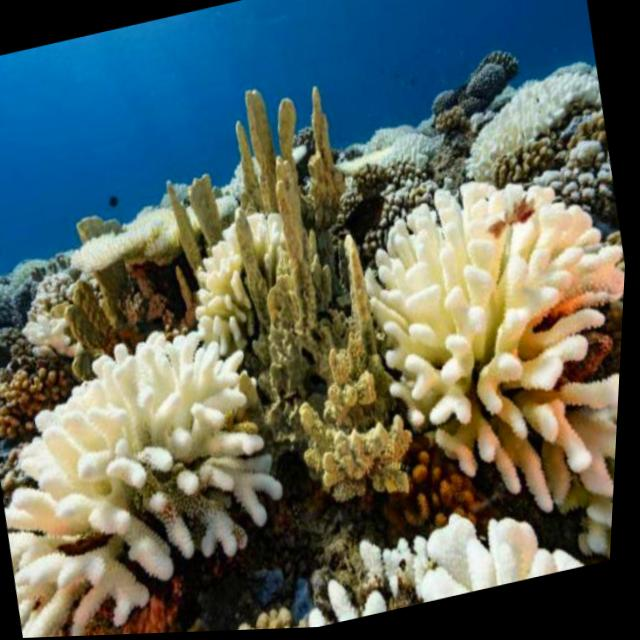Bleached Coral: (0, 66, 637, 639)
